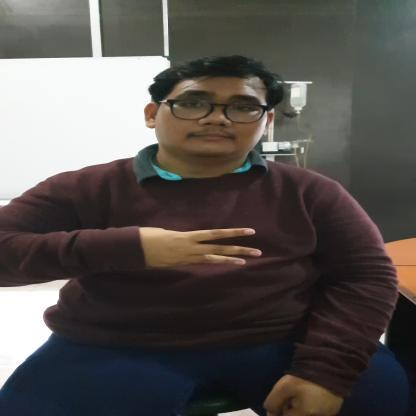E: (140, 226, 262, 270)
